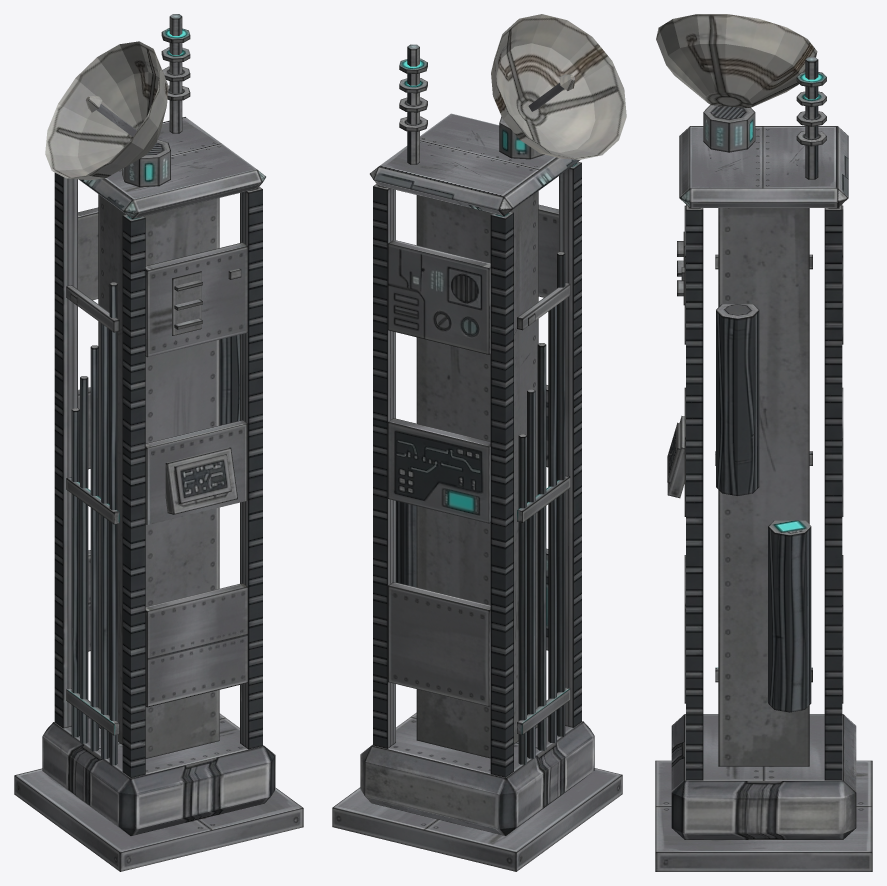
The model's file is receiverstation.glb.
The picture shows the model from 3 angles, left to right: view 1: azimuth 30°, elevation 25°; view 2: azimuth 150°, elevation 25°; view 3: azimuth 270°, elevation 25°; orthographic projection. The views are drawn at different scales.
Visible parts, largest first — view 1: ReceiverStation, SatelliteDish; view 2: ReceiverStation, SatelliteDish; view 3: ReceiverStation, SatelliteDish.
Part boxes in pixels (x1,y1,x2,y2): ReceiverStation: (14, 14, 303, 871); SatelliteDish: (45, 41, 168, 180); ReceiverStation: (332, 44, 622, 871); SatelliteDish: (491, 14, 626, 159); ReceiverStation: (655, 57, 872, 871); SatelliteDish: (656, 14, 817, 107).
Size of the model in its own units: 1.14 by 4.07 by 1.
Materials: 1 (1 with a texture image).
